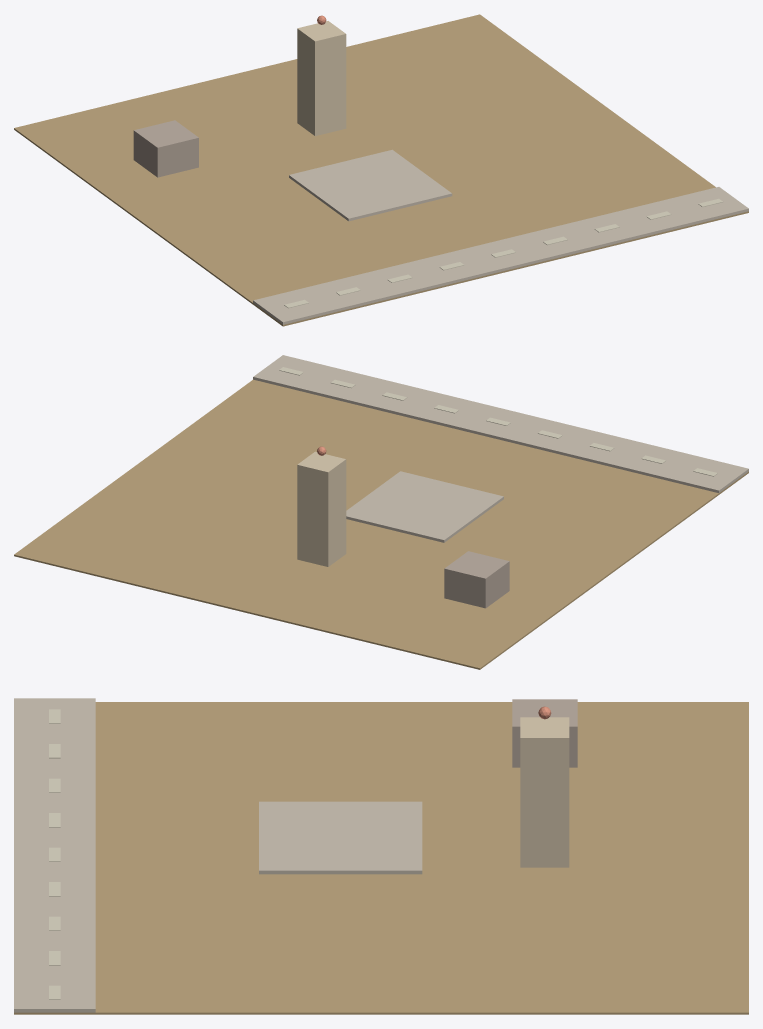
The model's file is stage_03.glb.
The picture shows the model from 3 angles, top to bottom: view 1: azimuth 30°, elevation 25°; view 2: azimuth 150°, elevation 25°; view 3: azimuth 270°, elevation 25°; orthographic projection. The views are drawn at different scales.
Visible parts, largest first — view 1: geometry_0; view 2: geometry_0; view 3: geometry_0.
Boxes of the visible parts, x1,y1,x2,y2 form: geometry_0: (14, 14, 748, 326); geometry_0: (14, 355, 748, 669); geometry_0: (14, 698, 748, 1014).
Size of the model in its own units: 9 by 2.06 by 9.
